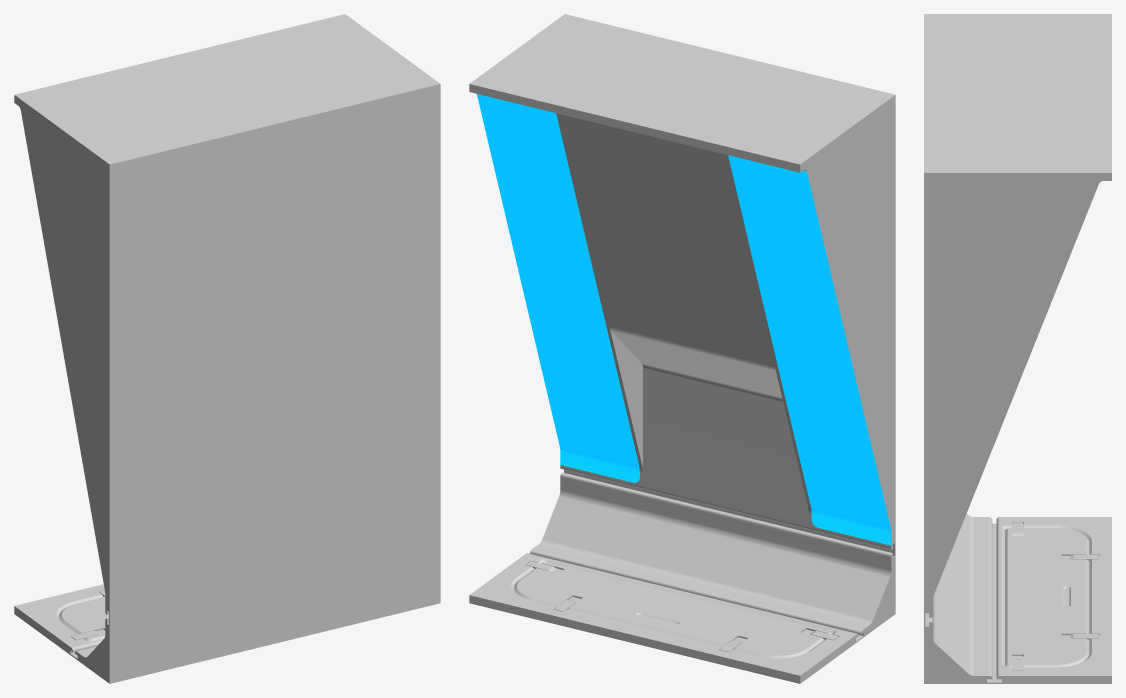
The model's file is SM_MOD_Laser_Wall_04_Inset_01.fbx.
3 views of the same model, side by side, from view 1: azimuth 30°, elevation 25°; view 2: azimuth 150°, elevation 25°; view 3: azimuth 270°, elevation 25° (orthographic).
Visible parts, largest first — view 1: SM_MOD_Laser_Wall_04_Inset_01_LOD0; view 2: SM_MOD_Laser_Wall_04_Inset_01_LOD0; view 3: SM_MOD_Laser_Wall_04_Inset_01_LOD0.
Boxes of the visible parts, box(x1,y1,x2,y2) form: SM_MOD_Laser_Wall_04_Inset_01_LOD0: box(14, 14, 440, 683); SM_MOD_Laser_Wall_04_Inset_01_LOD0: box(469, 14, 895, 683); SM_MOD_Laser_Wall_04_Inset_01_LOD0: box(924, 14, 1111, 683).
Size of what is drawn, in the model's own units: 512 by 768 by 256.
